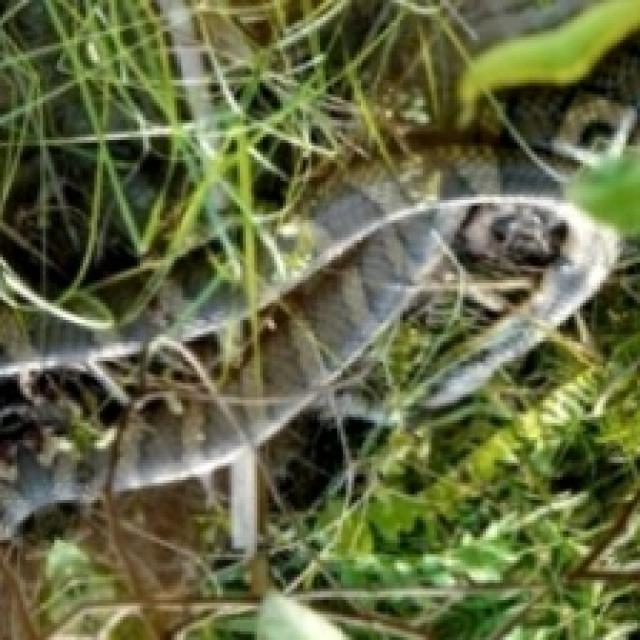king cobra: (0, 0, 637, 603), (449, 429, 571, 551)
